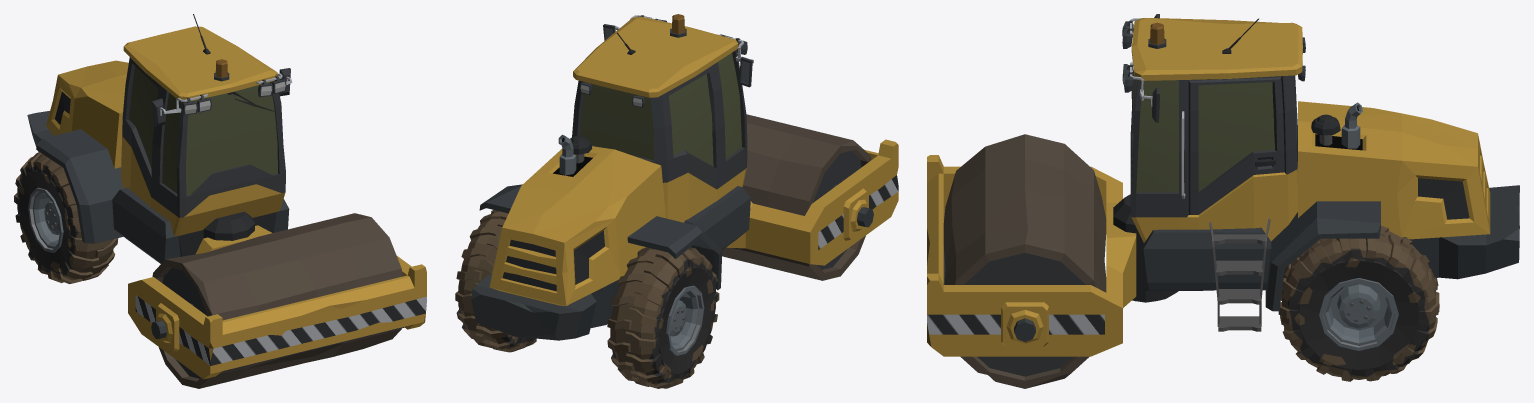
Rendered from SM_Veh_Roller_01.glb.
3 renders of one model, left to right at view 1: azimuth 30°, elevation 25°; view 2: azimuth 150°, elevation 25°; view 3: azimuth 270°, elevation 25°, orthographic. The views are drawn at different scales.
Parts seen in each view (by area): view 1: SM_Veh_Roller_01, SM_Veh_Roller_01_Roller, SM_Veh_Roller_01_Front, SM_Veh_Roller_01_Glass, SM_Veh_Roller_01_Wheel_rr; view 2: SM_Veh_Roller_01, SM_Veh_Roller_01_Wheel_rr, SM_Veh_Roller_01_Roller, SM_Veh_Roller_01_Front, SM_Veh_Roller_01_Glass, SM_Veh_Roller_01_Wheel_rl; view 3: SM_Veh_Roller_01, SM_Veh_Roller_01_Roller, SM_Veh_Roller_01_Front, SM_Veh_Roller_01_Wheel_rl, SM_Veh_Roller_01_Glass.
Boxes of the visible parts, x1,y1,x2,y2 form: SM_Veh_Roller_01: (27,14,292,263); SM_Veh_Roller_01_Roller: (152,213,402,388); SM_Veh_Roller_01_Front: (128,211,426,379); SM_Veh_Roller_01_Glass: (129,66,277,195); SM_Veh_Roller_01_Wheel_rr: (14,152,118,283); SM_Veh_Roller_01: (471,14,753,340); SM_Veh_Roller_01_Wheel_rr: (607,247,719,388); SM_Veh_Roller_01_Roller: (722,114,871,280); SM_Veh_Roller_01_Front: (726,139,898,265); SM_Veh_Roller_01_Glass: (580,53,741,166); SM_Veh_Roller_01_Wheel_rl: (455,210,536,352); SM_Veh_Roller_01: (1122,14,1519,331); SM_Veh_Roller_01_Roller: (943,134,1106,388); SM_Veh_Roller_01_Front: (927,155,1178,356); SM_Veh_Roller_01_Wheel_rl: (1278,226,1439,381); SM_Veh_Roller_01_Glass: (1135,79,1274,192).
Bounding box in the file's own units: 3.66 × 3.92 × 6.49.
1 material, 1 textured.
